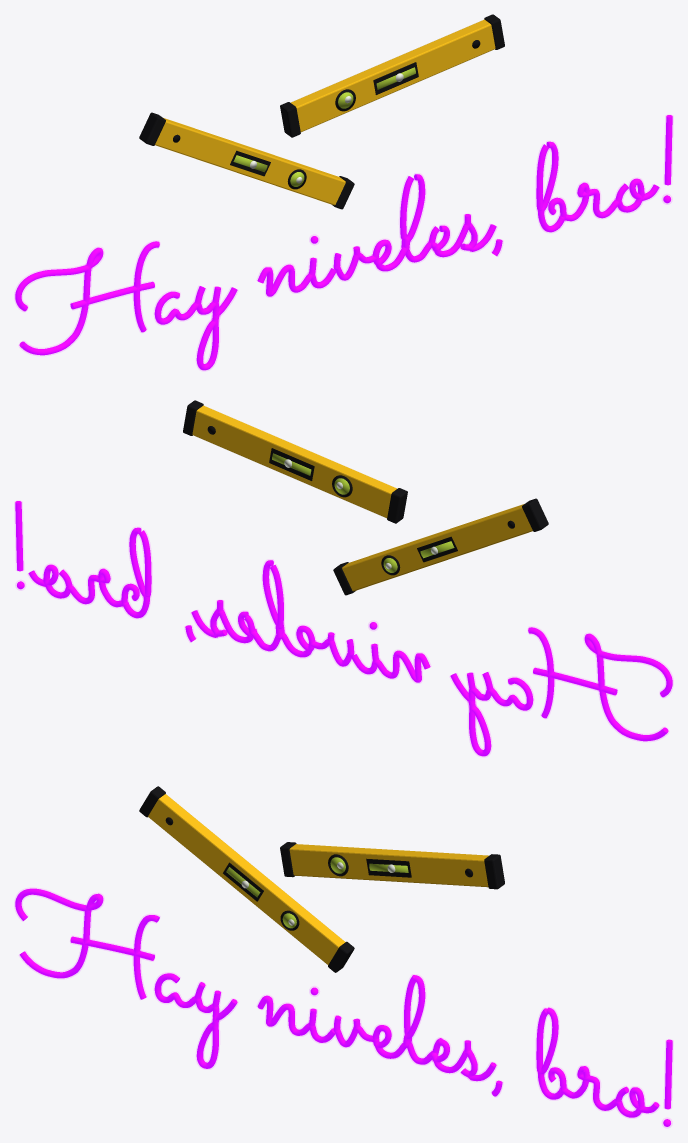
The model's file is rotulo-niveles.glb.
3 views of the same model, one above another, from view 1: azimuth 30°, elevation 25°; view 2: azimuth 150°, elevation 25°; view 3: azimuth 330°, elevation 25° (orthographic).
Parts seen in each view (by area): view 1: NEON, NIVEL_B, NIVEL_A, NEON_GLOW; view 2: NEON, NIVEL_B, NIVEL_A, NEON_GLOW; view 3: NEON, NIVEL_A, NIVEL_B, NEON_GLOW.
Part boxes in pixels (x1,y1,x2,y2): NEON: [15, 115, 672, 370]; NIVEL_B: [280, 14, 504, 137]; NIVEL_A: [139, 112, 354, 209]; NEON_GLOW: [80, 148, 645, 364]; NEON: [15, 501, 672, 756]; NIVEL_B: [183, 400, 407, 523]; NIVEL_A: [333, 498, 548, 595]; NEON_GLOW: [42, 534, 607, 750]; NEON: [15, 888, 672, 1126]; NIVEL_A: [139, 786, 354, 972]; NIVEL_B: [280, 842, 504, 889]; NEON_GLOW: [81, 898, 645, 1113].
Bounding box in the file's own units: 1186 × 488 × 26.84.
